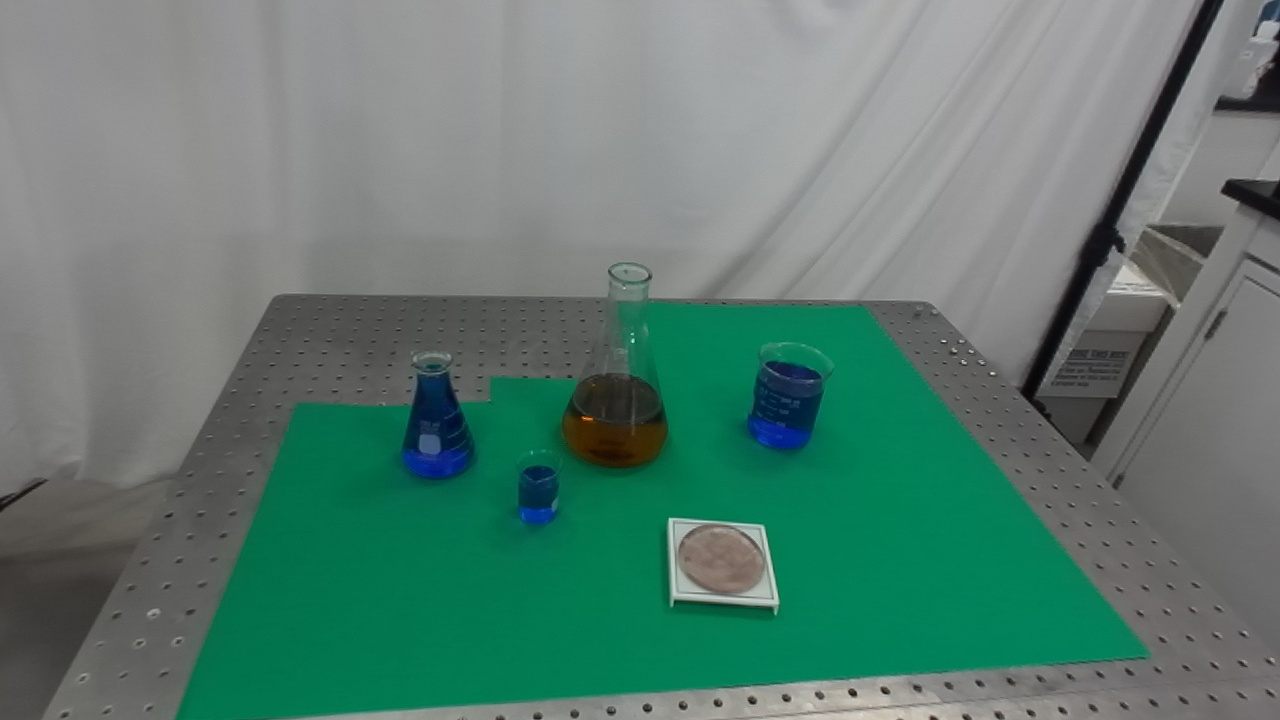glass: (558, 260, 673, 474), (391, 347, 481, 486), (741, 335, 840, 455), (513, 447, 565, 530)
plate: (667, 514, 781, 623)
